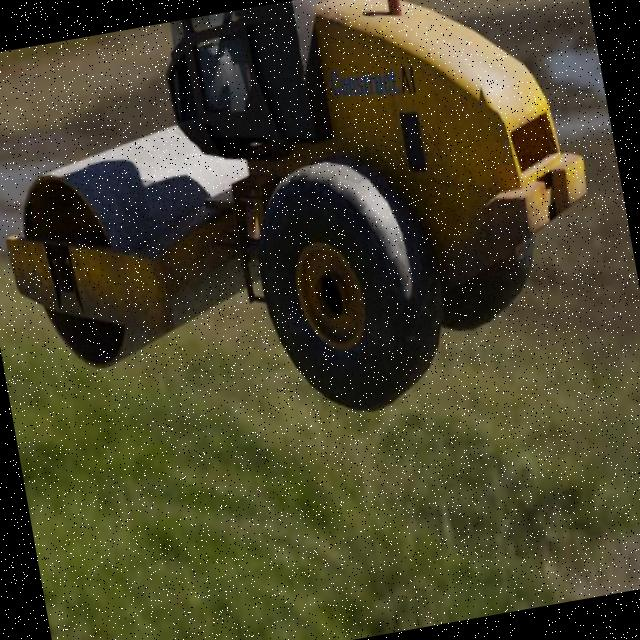Roller: (0, 0, 619, 470)
